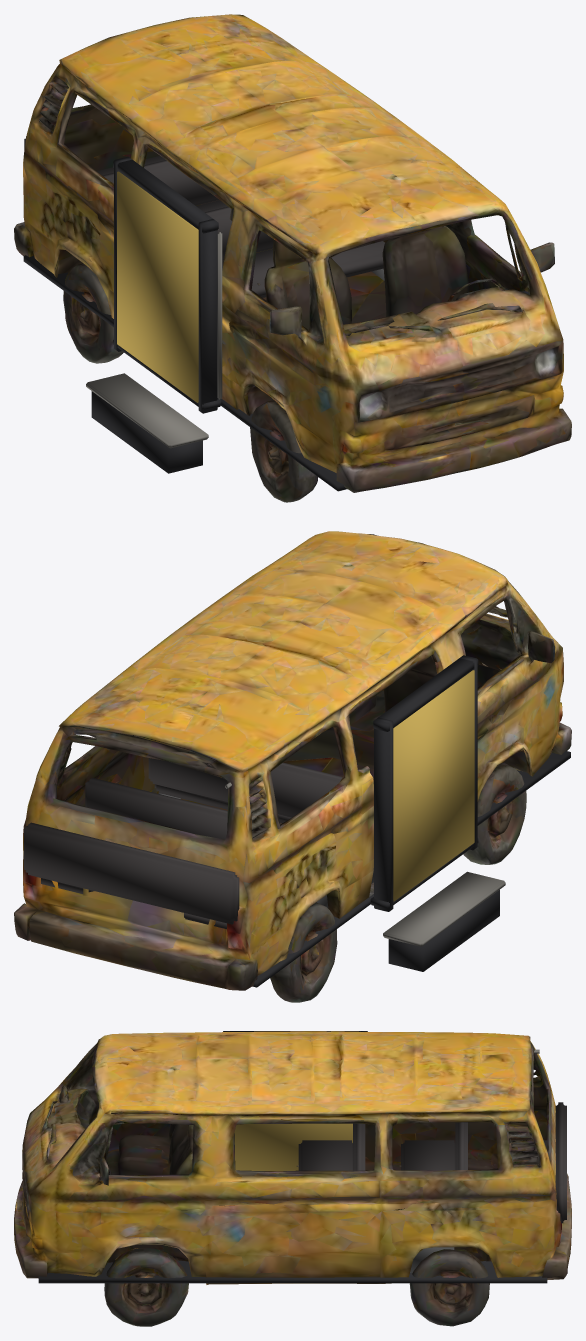
The model's file is bus.glb.
3 views of the same model, one above another, from view 1: azimuth 30°, elevation 25°; view 2: azimuth 150°, elevation 25°; view 3: azimuth 270°, elevation 25° (orthographic). The views are drawn at different scales.
Parts seen in each view (by area): view 1: danfo, door, stepplate, pillarF, stepsupport, floor, header, cush0, back1, doorrail, back0, pillarR; view 2: danfo, door, back2, back1, back0, stepplate, pillarR, stepsupport, floor, header, pillarF, cush0; view 3: danfo, floor, door, cush1, cush0, back2, back1, back0.
Boxes of the visible parts, <box> form: danfo: <box>14,14,571,502</box>; door: <box>117,171,198,402</box>; stepplate: <box>86,373,208,448</box>; pillarF: <box>198,219,217,413</box>; stepsupport: <box>91,391,202,473</box>; floor: <box>23,255,347,491</box>; header: <box>113,156,218,233</box>; cush0: <box>222,241,384,297</box>; back1: <box>102,160,218,205</box>; doorrail: <box>217,232,222,399</box>; back0: <box>205,206,273,260</box>; pillarR: <box>114,157,131,351</box>; danfo: <box>14,531,571,1002</box>; door: <box>393,670,474,901</box>; back2: <box>24,822,239,924</box>; back1: <box>85,777,280,839</box>; back0: <box>148,758,342,817</box>; stepplate: <box>383,871,505,946</box>; pillarR: <box>374,717,393,911</box>; stepsupport: <box>388,890,499,971</box>; floor: <box>252,750,570,987</box>; header: <box>373,655,478,731</box>; pillarF: <box>459,656,477,850</box>; cush0: <box>154,784,291,823</box>; danfo: <box>14,1031,571,1326</box>; floor: <box>38,1260,547,1283</box>; door: <box>234,1123,352,1170</box>; cush1: <box>401,1140,455,1170</box>; cush0: <box>298,1140,352,1170</box>; back2: <box>555,1102,566,1223</box>; back1: <box>455,1122,467,1169</box>; back0: <box>353,1123,365,1170</box>.
Size of the model in its own units: 2.34 by 2.01 by 4.5.
Materials: 7 (1 with a texture image).
